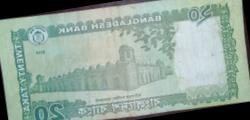20 taka: (14, 2, 241, 119)
